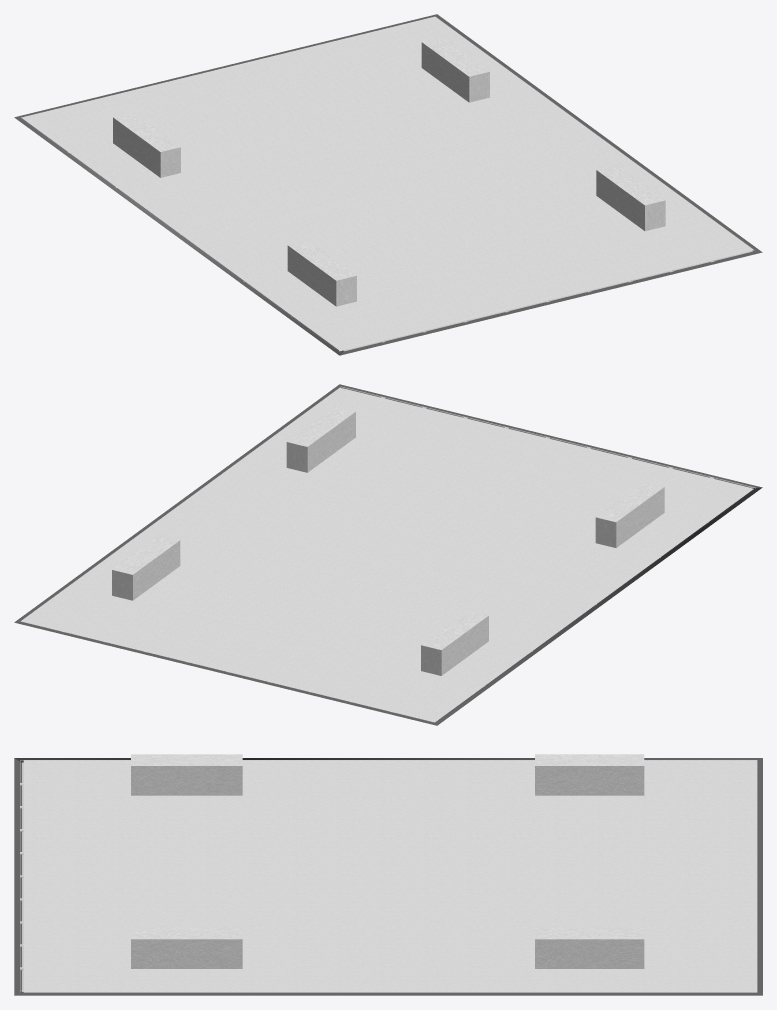
The model's file is OR_Ceiling.fbx.
The picture shows the model from 3 angles, top to bottom: view 1: azimuth 30°, elevation 25°; view 2: azimuth 150°, elevation 25°; view 3: azimuth 270°, elevation 25°; orthographic projection. The views are drawn at different scales.
Visible parts, largest first — view 1: OR_Ceiling; view 2: OR_Ceiling; view 3: OR_Ceiling.
Boxes of the visible parts, box(x1,y1,x2,y2) form: OR_Ceiling: box(14, 14, 762, 355); OR_Ceiling: box(14, 384, 762, 725); OR_Ceiling: box(14, 754, 762, 995).
Size of the model in its own units: 600 by 36 by 800.
